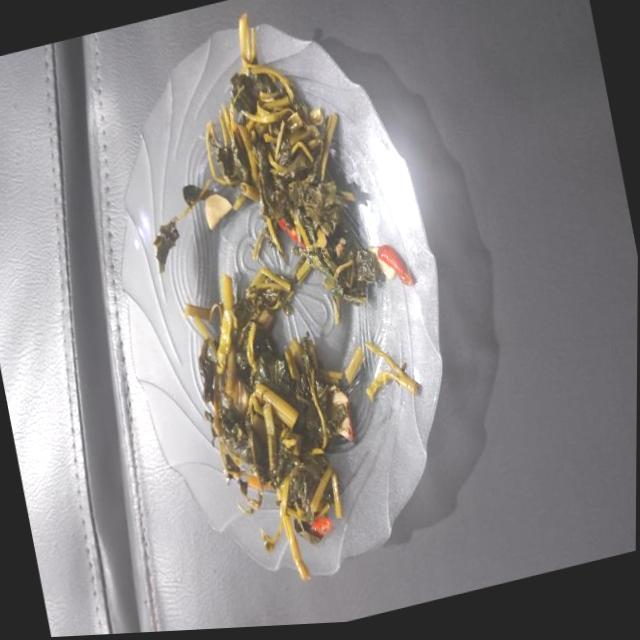tumis_kangkung: (206, 14, 416, 323), (186, 267, 364, 580)
